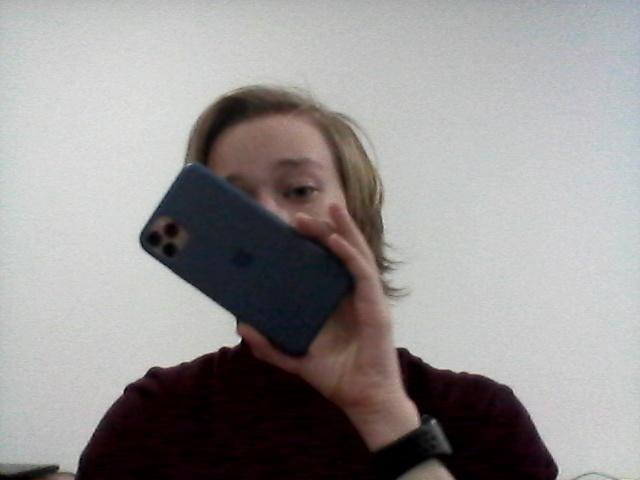PhoneUse: (126, 159, 372, 373)
SafeDriving: (278, 167, 326, 203)
